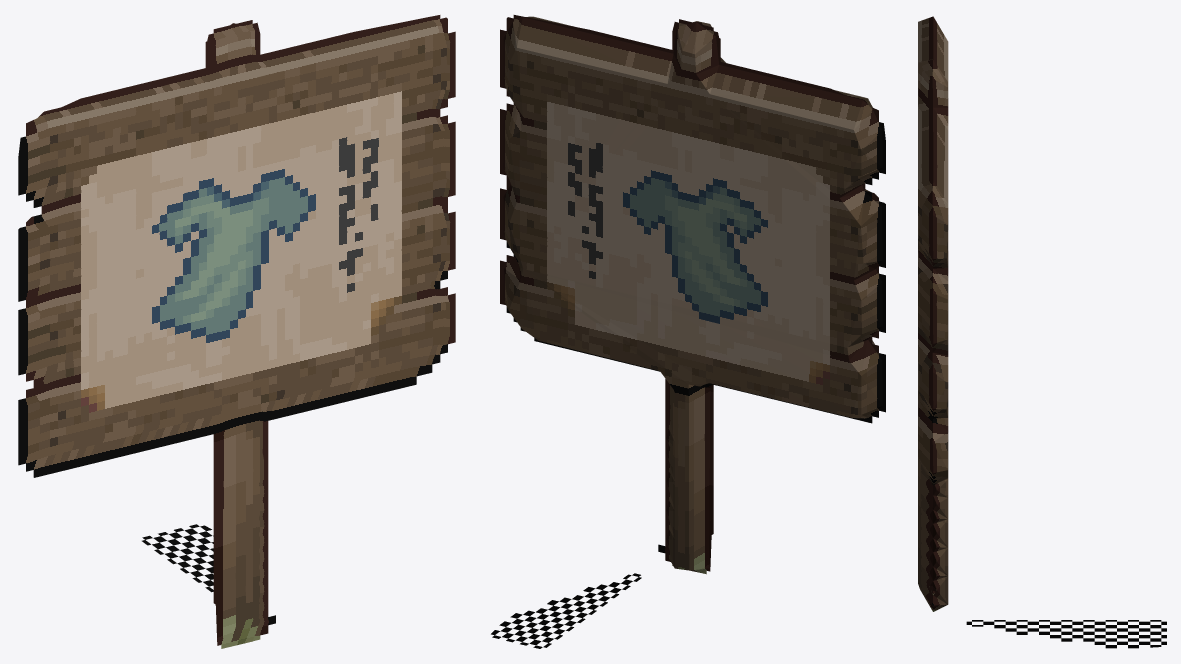
File: shop_sign_cut_far.glb
The picture shows the model from 3 angles, left to right: view 1: azimuth 30°, elevation 25°; view 2: azimuth 150°, elevation 25°; view 3: azimuth 270°, elevation 25°; orthographic projection. The views are drawn at different scales.
Visible parts, largest first — view 1: shop_sign_cut_lod1; view 2: shop_sign_cut_lod1; view 3: shop_sign_cut_lod1.
Boxes of the visible parts, box(x1,y1,x2,y2) form: shop_sign_cut_lod1: box(18, 15, 455, 648); shop_sign_cut_lod1: box(491, 15, 885, 648); shop_sign_cut_lod1: box(918, 16, 1166, 648).
Size of the model in its own units: 1.19 by 1.59 by 0.6587.
Materials: 1 (1 with a texture image).
